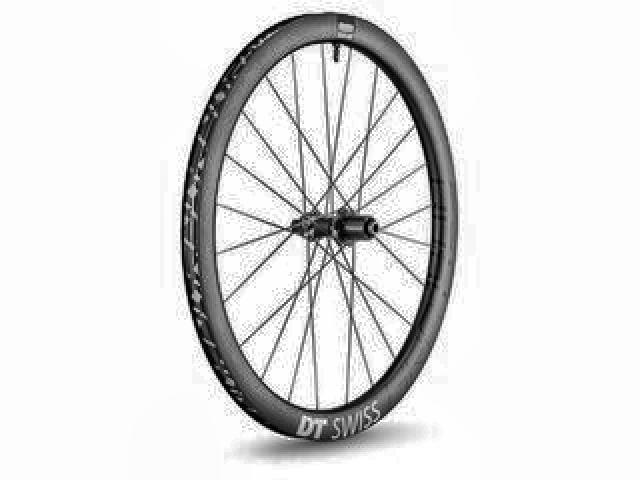wheel: (174, 8, 464, 447)
